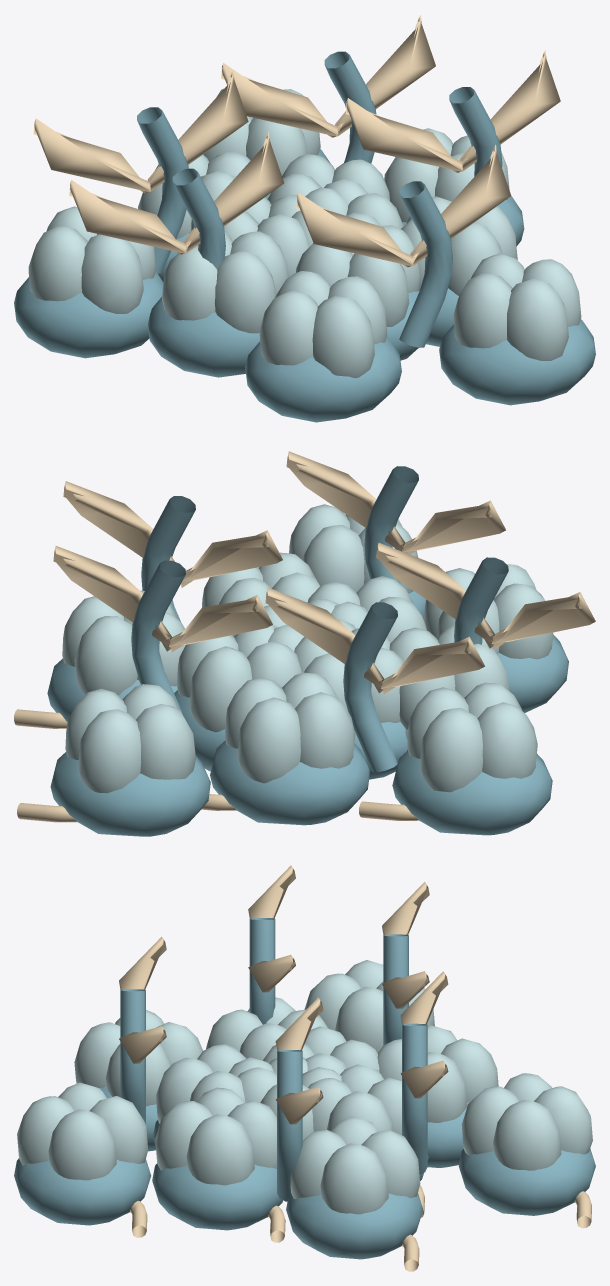
The model's file is bio_oxygen_reef_12_far.glb.
3 renders of one model, top to bottom at view 1: azimuth 30°, elevation 25°; view 2: azimuth 150°, elevation 25°; view 3: azimuth 270°, elevation 25°, orthographic. The views are drawn at different scales.
Parts seen in each view (by area): view 1: Lobed gas sac.028, Lobed gas sac.040, Lobed gas sac.036, Lobed gas sac.016, Photosynthetic cushion.007, Photosynthetic cushion.010, Photosynthetic cushion.009, Secondary fan lobe.004, Secondary fan lobe.008, Secondary fan lobe.002, Secondary fan lobe, Secondary fan lobe.006 (+17 smaller); view 2: Lobed gas sac.024, Lobed gas sac.036, Lobed gas sac.044, Photosynthetic cushion.011, Photosynthetic cushion.009, Photosynthetic cushion.006, Lobed gas sac.012, Lobed gas sac.032, Secondary fan lobe.008, Secondary fan lobe.002, Secondary fan lobe.006, Secondary fan lobe.004 (+20 smaller); view 3: Lobed gas sac.044, Lobed gas sac.040, Lobed gas sac.032, Lobed gas sac.020, Photosynthetic cushion.010, Photosynthetic cushion.011, Photosynthetic cushion.008, Photosynthetic cushion.005, Lobed gas sac.024, Lobed gas sac.028, Lobed gas sac.036, Lobed gas sac.012 (+15 smaller).
Boxes of the visible parts, bbox=[...] form: Lobed gas sac.028: bbox=[259, 271, 387, 378]; Lobed gas sac.040: bbox=[453, 253, 581, 360]; Lobed gas sac.036: bbox=[28, 206, 156, 313]; Lobed gas sac.016: bbox=[162, 231, 288, 333]; Photosynthetic cushion.007: bbox=[245, 336, 401, 422]; Photosynthetic cushion.010: bbox=[439, 319, 595, 405]; Photosynthetic cushion.009: bbox=[14, 272, 163, 358]; Secondary fan lobe.004: bbox=[296, 144, 511, 267]; Secondary fan lobe.008: bbox=[69, 132, 283, 254]; Secondary fan lobe.002: bbox=[33, 70, 248, 192]; Secondary fan lobe: bbox=[345, 50, 560, 172]; Secondary fan lobe.006: bbox=[221, 15, 435, 137]; Lobed gas sac.024: bbox=[224, 672, 355, 783]; Lobed gas sac.036: bbox=[407, 682, 537, 792]; Lobed gas sac.044: bbox=[65, 684, 195, 793]; Photosynthetic cushion.011: bbox=[50, 752, 210, 836]; Photosynthetic cushion.009: bbox=[392, 750, 552, 835]; Photosynthetic cushion.006: bbox=[210, 740, 370, 825]; Lobed gas sac.012: bbox=[177, 625, 301, 732]; Lobed gas sac.032: bbox=[62, 590, 185, 695]; Secondary fan lobe.008: bbox=[376, 542, 595, 649]; Secondary fan lobe.002: bbox=[265, 587, 484, 694]; Secondary fan lobe.006: bbox=[53, 546, 272, 652]; Secondary fan lobe.004: bbox=[286, 451, 505, 554]; Lobed gas sac.044: bbox=[461, 1073, 592, 1170]; Lobed gas sac.040: bbox=[17, 1082, 148, 1180]; Lobed gas sac.032: bbox=[290, 1116, 420, 1214]; Lobed gas sac.020: bbox=[155, 1087, 276, 1185]; Photosynthetic cushion.010: bbox=[14, 1158, 151, 1225]; Photosynthetic cushion.011: bbox=[458, 1148, 595, 1215]; Photosynthetic cushion.008: bbox=[286, 1193, 423, 1259]; Photosynthetic cushion.005: bbox=[152, 1163, 282, 1230]; Lobed gas sac.024: bbox=[377, 1025, 498, 1122]; Lobed gas sac.028: bbox=[74, 1010, 202, 1106]; Lobed gas sac.036: bbox=[304, 960, 434, 1052]; Lobed gas sac.012: bbox=[308, 1064, 401, 1134].
Bounding box in the file's own units: 1.86 × 0.7649 × 2.03.
